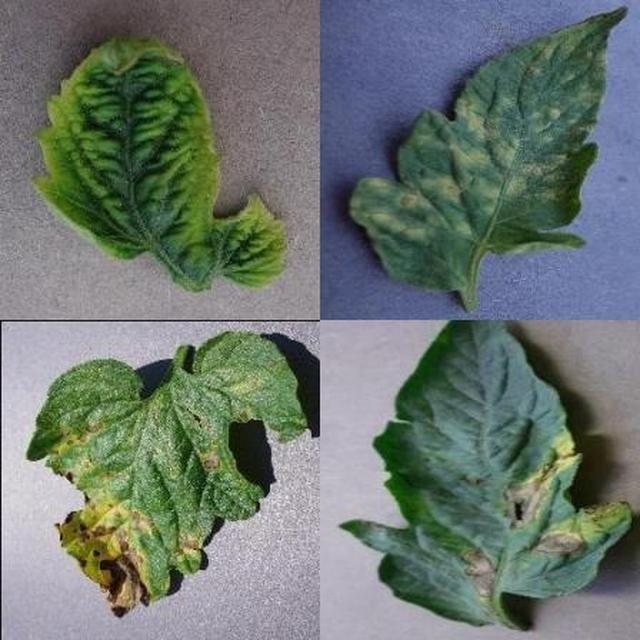Yellow Leaf Curl Virus: (233, 212, 640, 640)
